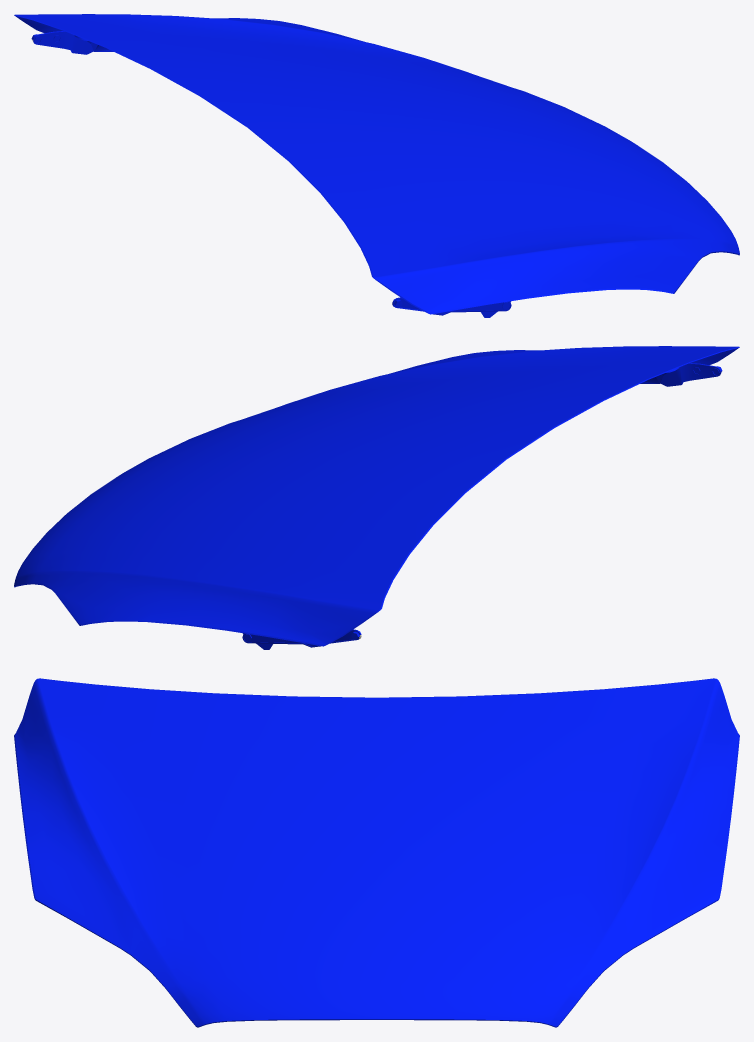
The model's file is Hood.obj.
3 renders of one model, top to bottom at view 1: azimuth 30°, elevation 25°; view 2: azimuth 150°, elevation 25°; view 3: azimuth 270°, elevation 25°, orthographic. The views are drawn at different scales.
Parts seen in each view (by area): view 1: Hood; view 2: Hood; view 3: Hood.
Boxes of the visible parts, x1=… form: Hood: x1=14, y1=14, x2=739, y2=317; Hood: x1=14, y1=346, x2=739, y2=649; Hood: x1=14, y1=678, x2=739, y2=1027.
Bounding box in the file's own units: 1.21 × 0.398 × 1.72.
